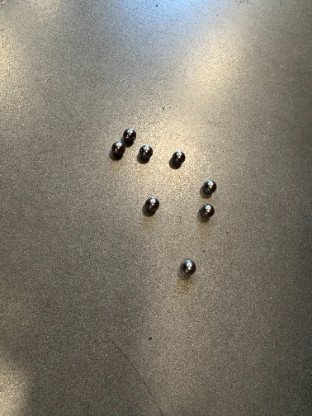ironball: (180, 259, 196, 275), (145, 197, 159, 212), (171, 150, 185, 164), (139, 144, 153, 158), (111, 141, 125, 155), (122, 128, 136, 142), (200, 203, 214, 217), (202, 179, 216, 193)
